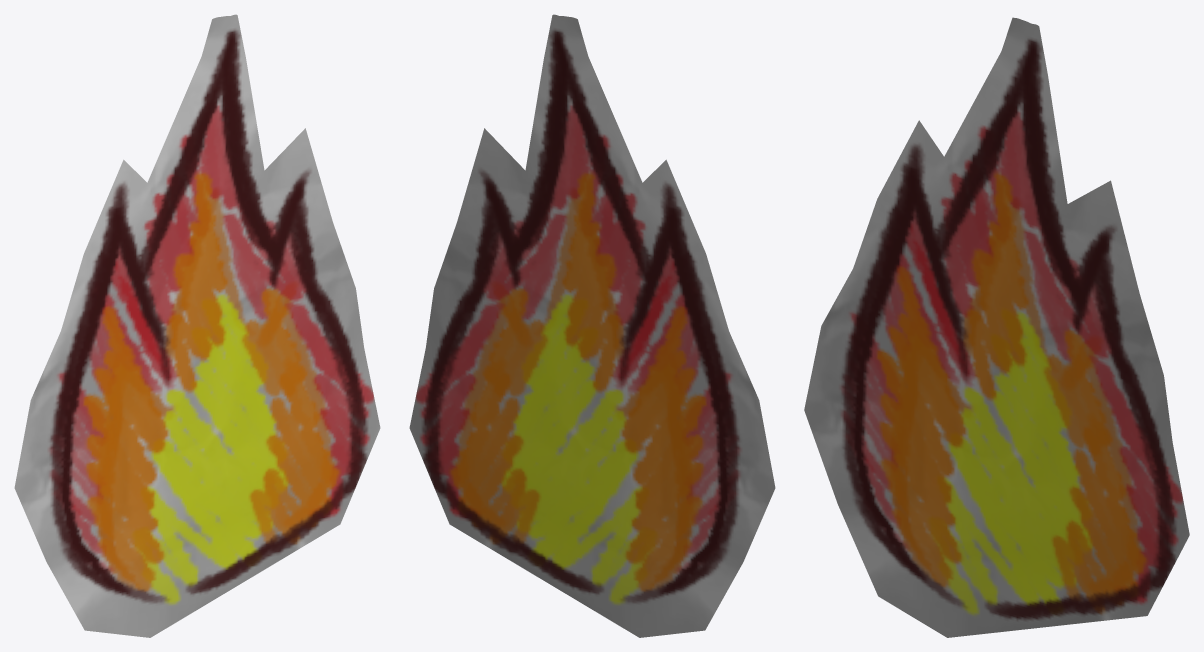
The model's file is fier_001.fbx.
3 renders of one model, left to right at view 1: azimuth 30°, elevation 25°; view 2: azimuth 150°, elevation 25°; view 3: azimuth 330°, elevation 25°, orthographic. The views are drawn at different scales.
Visible parts, largest first — view 1: pPlane4; view 2: pPlane4; view 3: pPlane4.
Boxes of the visible parts, x1,y1,x2,y2 form: pPlane4: (14, 14, 380, 637); pPlane4: (409, 14, 775, 637); pPlane4: (804, 17, 1189, 637).
Size of the model in its own units: 1.72 by 2.73 by 0.
